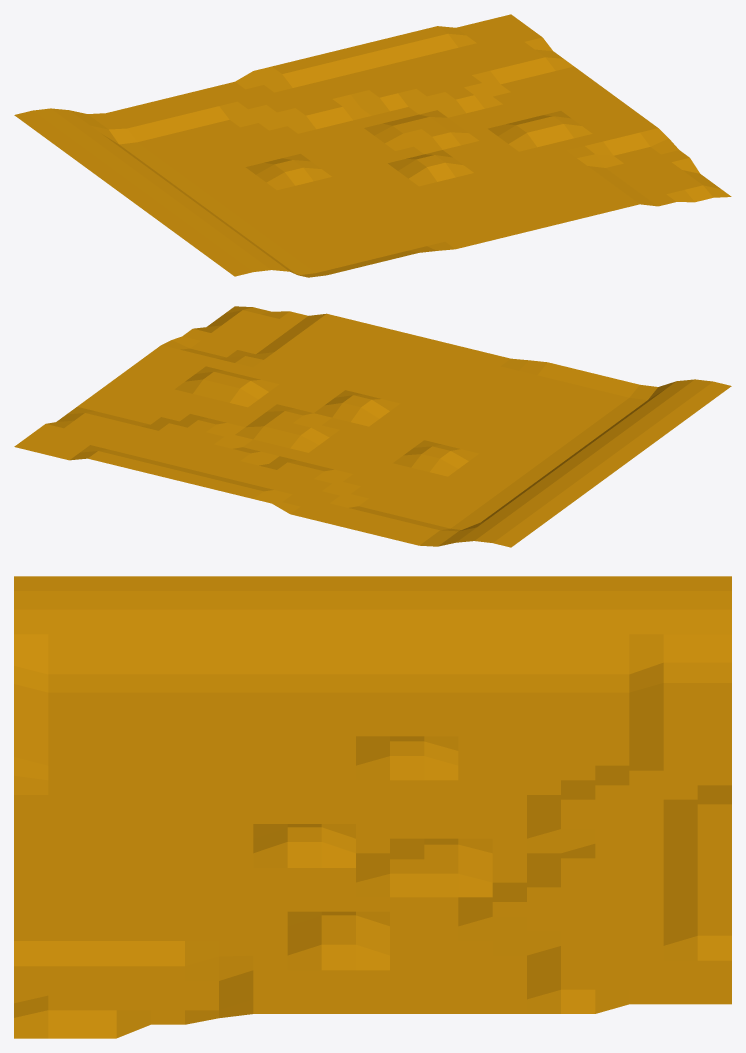
Rendered from level_0.glb.
3 renders of one model, top to bottom at view 1: azimuth 30°, elevation 25°; view 2: azimuth 150°, elevation 25°; view 3: azimuth 270°, elevation 25°, orthographic. The views are drawn at different scales.
Visible parts, largest first — view 1: Plane.001; view 2: Plane.001; view 3: Plane.001.
Boxes of the visible parts, <box> form: Plane.001: <box>14,14,731,277</box>; Plane.001: <box>14,306,731,547</box>; Plane.001: <box>14,576,731,1038</box>.
Size of the model in its own units: 260 by 20.77 by 200.
Materials: 1 (1 with a texture image).
